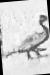G39: (2, 0, 49, 74)
